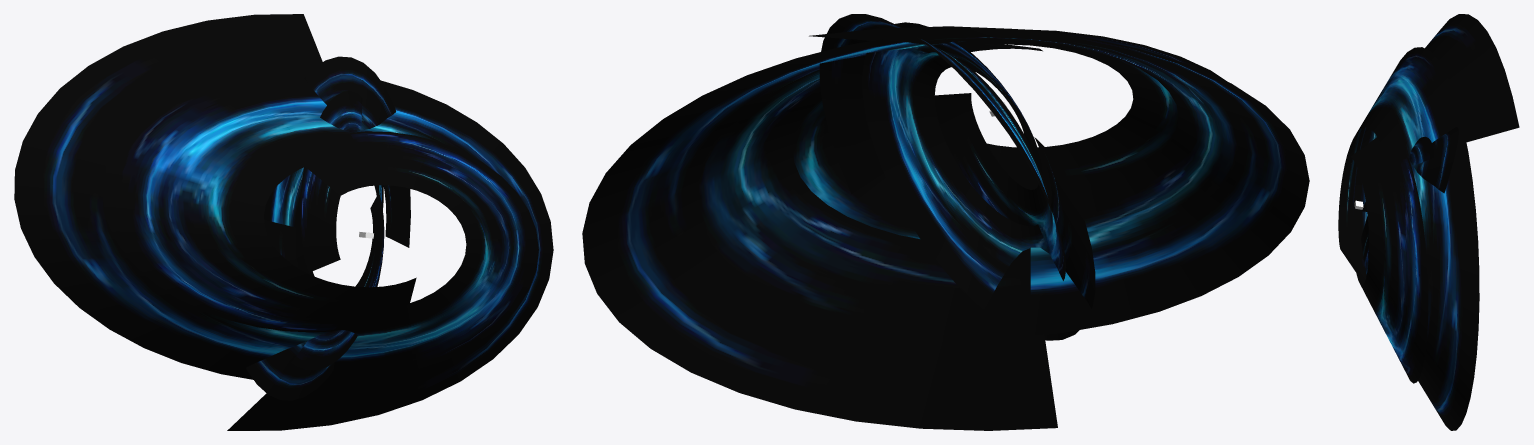
3 views of the same model, side by side, from view 1: azimuth 30°, elevation 25°; view 2: azimuth 150°, elevation 25°; view 3: azimuth 270°, elevation 25° (orthographic). The views are drawn at different scales.
Visible parts, largest first — view 1: Helix01 (×4); view 2: Helix01 (×4); view 3: Helix01 (×4).
Part boxes in pixels (<box>): Helix01 (×4): <box>14,14,553,430</box>; Helix01 (×4): <box>582,14,1309,430</box>; Helix01 (×4): <box>1338,14,1519,430</box>.
Bounding box in the file's own units: 25.95 × 17.37 × 9.85.
Materials: 2 (1 with a texture image).
